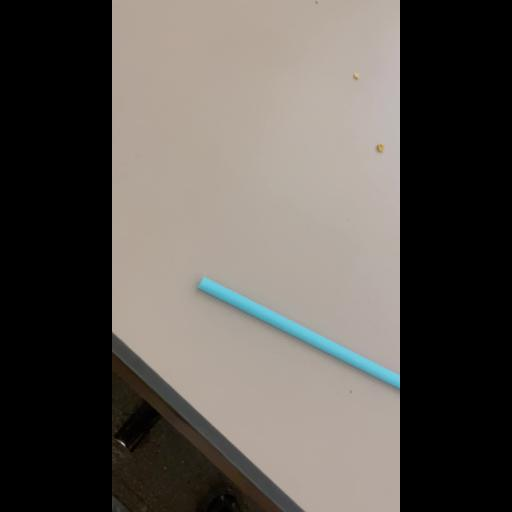straw: (186, 266, 400, 424)
